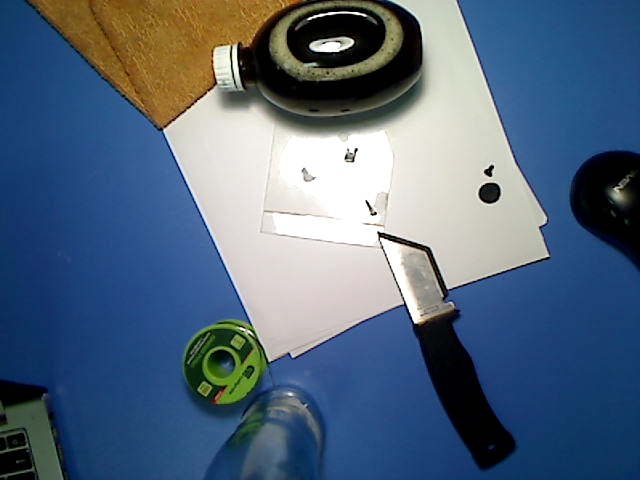plast_bottle: (209, 1, 430, 125)
